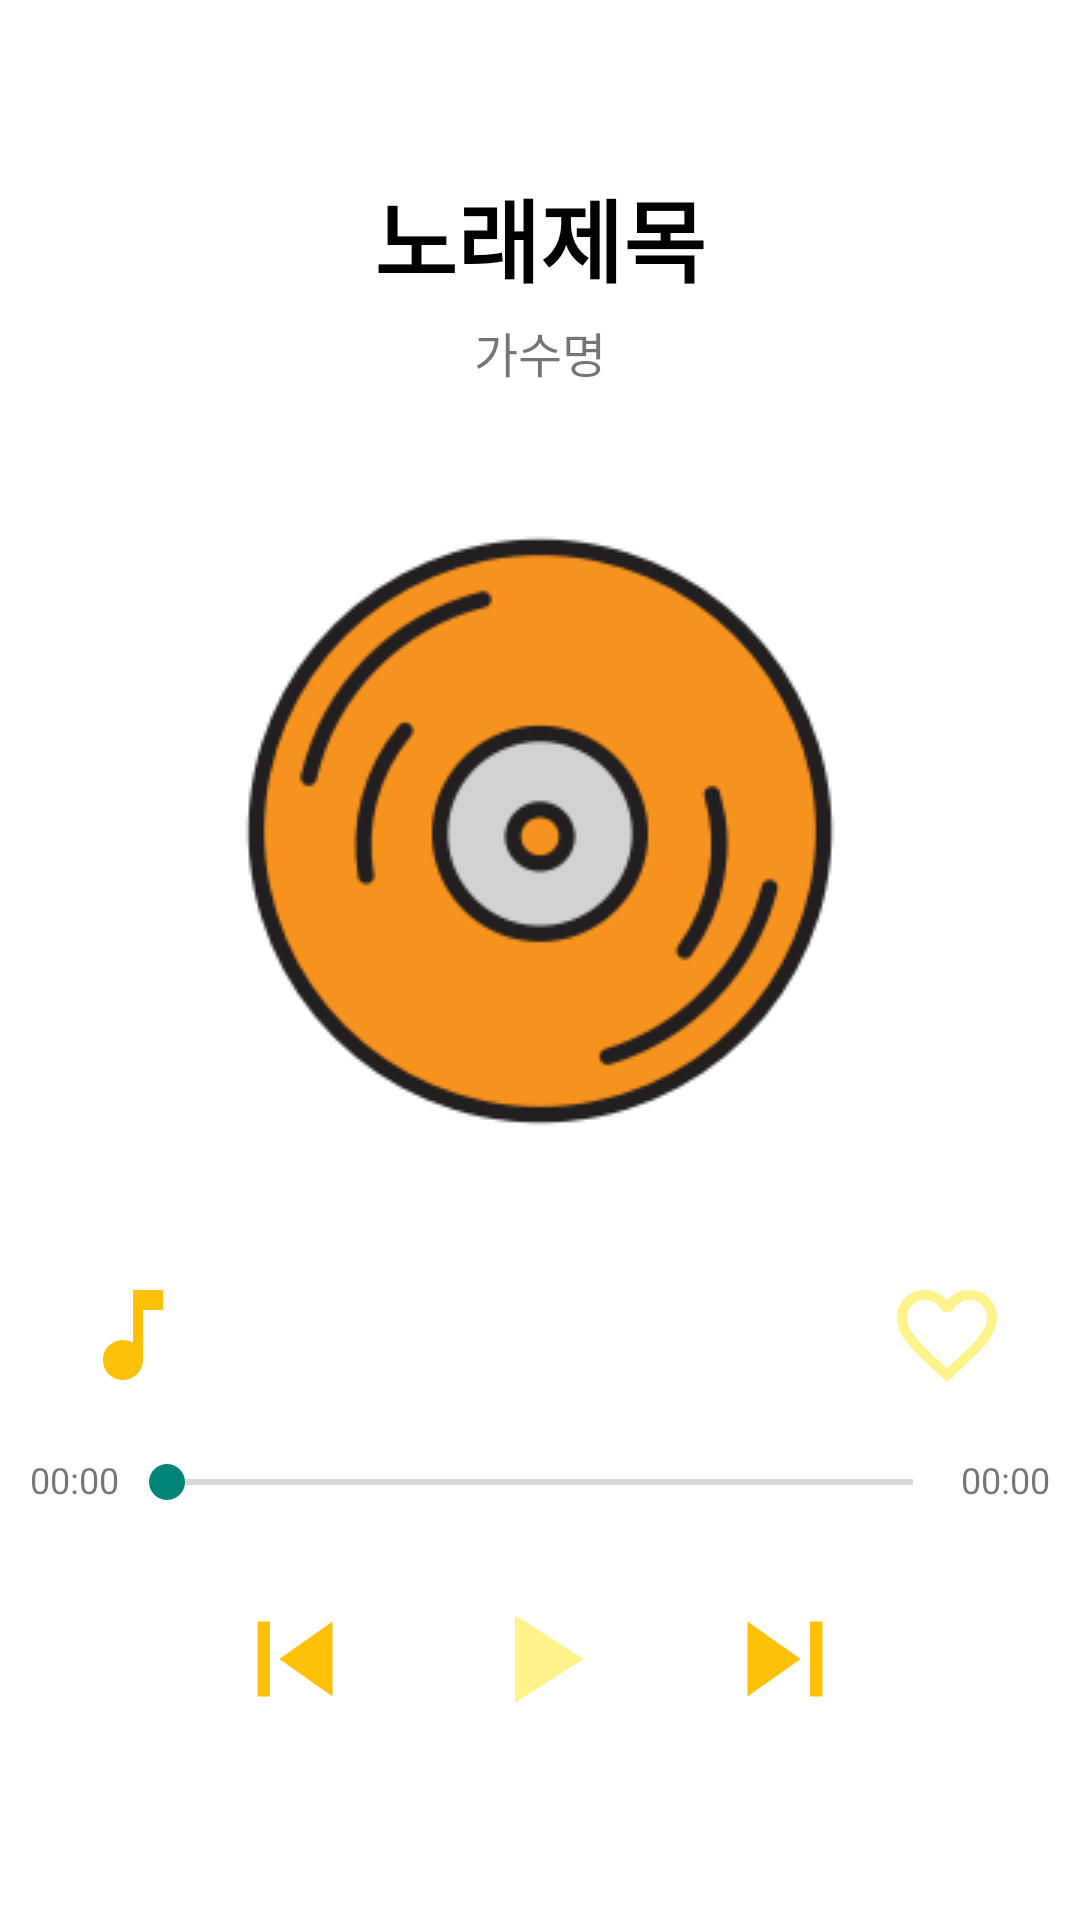

Screen size 1080 × 1920. Icon name, then its center in pixels as (x,y):
favorite border: (947,1336)
music note: (133,1335)
play arrow: (549,1659)
skip next: (785,1659)
skip previous: (295,1659)
